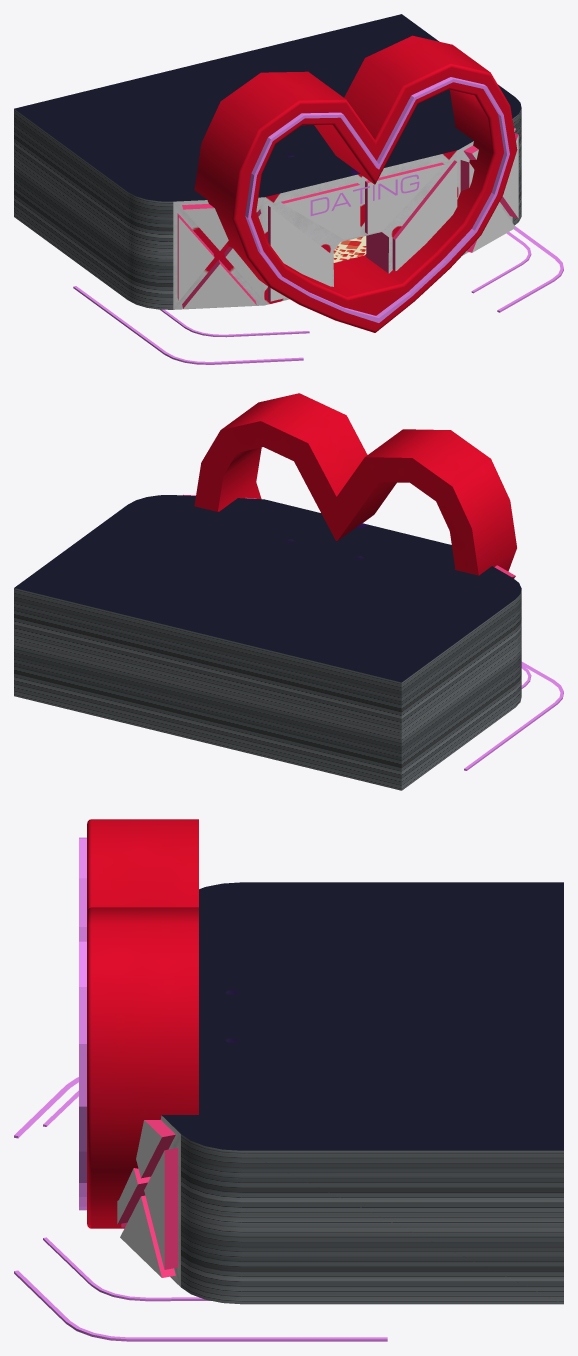
The model's file is DATING_New.fbx.
3 views of the same model, one above another, from view 1: azimuth 30°, elevation 25°; view 2: azimuth 150°, elevation 25°; view 3: azimuth 270°, elevation 25° (orthographic). The views are drawn at different scales.
Visible parts, largest first — view 1: D_INT_EXT, D_Glass_Panels, D_Emissive_Heart, D_Emissive_Blocks, D_Emissive_Text; view 2: D_INT_EXT, D_Emissive_Blocks; view 3: D_INT_EXT, D_Glass_Panels, D_Emissive_Blocks, D_Emissive_Heart.
Part boxes in pixels (x1,y1,x2,y2): D_INT_EXT: [14, 14, 521, 332]; D_Glass_Panels: [178, 128, 518, 308]; D_Emissive_Heart: [245, 77, 509, 322]; D_Emissive_Blocks: [73, 226, 563, 364]; D_Emissive_Text: [310, 174, 419, 215]; D_INT_EXT: [14, 393, 521, 790]; D_Emissive_Blocks: [464, 661, 563, 770]; D_INT_EXT: [87, 819, 563, 1304]; D_Glass_Panels: [117, 1120, 164, 1277]; D_Emissive_Blocks: [14, 1077, 387, 1341]; D_Emissive_Heart: [79, 837, 86, 1210].
Bounding box in the file's own units: 2122 × 1294 × 1812.
Materials: 3 (2 with a texture image).
